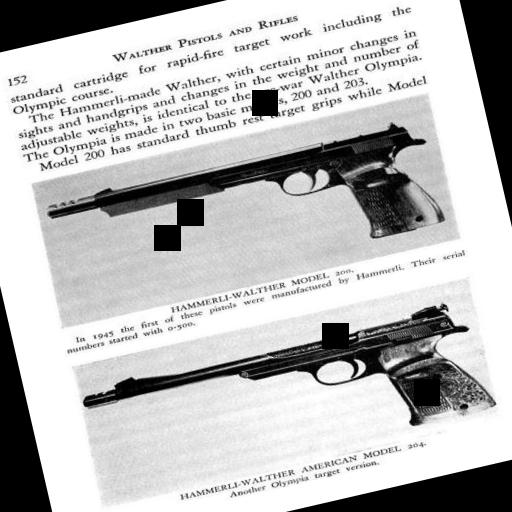Handgun: (38, 108, 452, 318), (78, 293, 496, 499)
